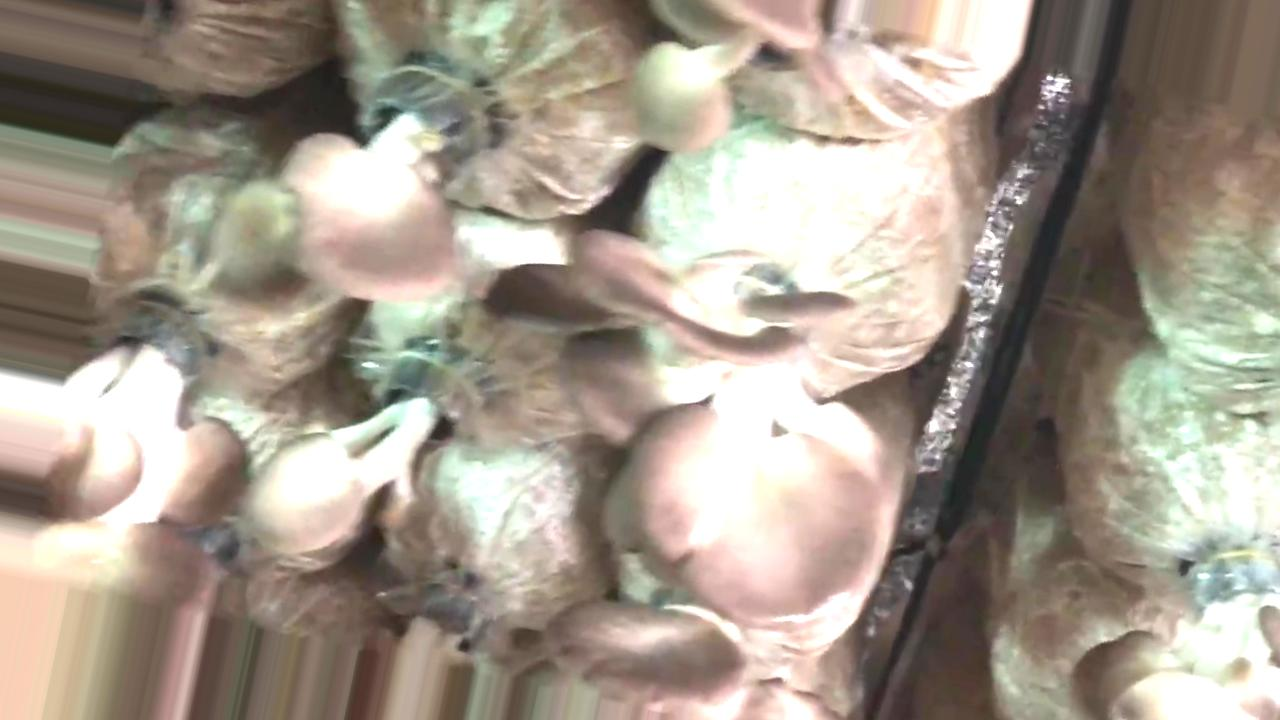nam: (466, 232, 886, 632), (64, 291, 250, 602), (234, 359, 491, 564), (286, 60, 503, 300), (1077, 530, 1280, 715), (528, 607, 845, 706), (628, 1, 823, 153)
